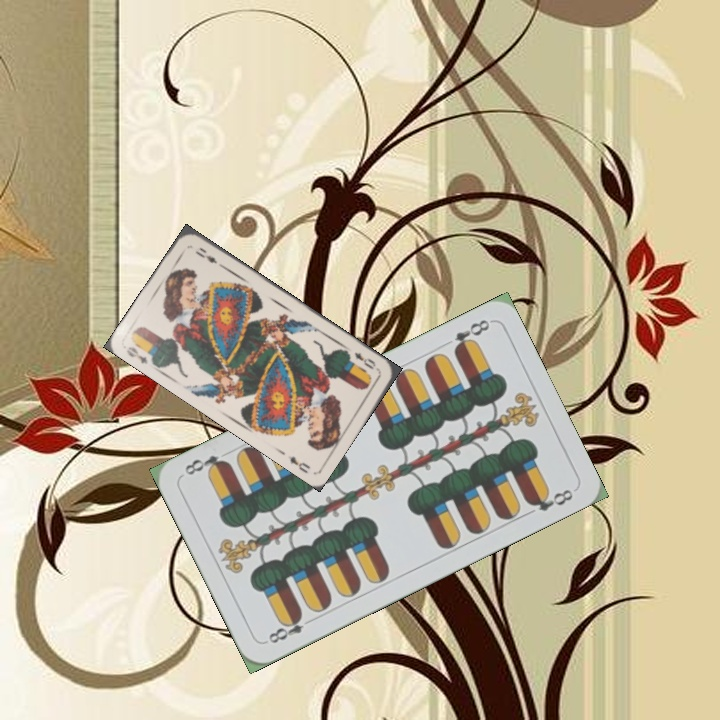E8: (264, 609, 317, 646), (449, 315, 493, 356)
EO: (122, 342, 150, 367), (350, 348, 378, 372)
